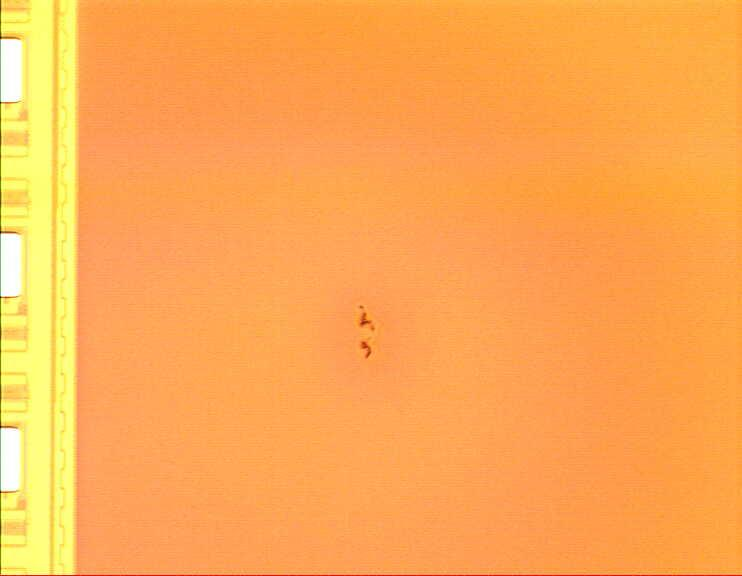PIQ PARTICLE: (353, 288, 389, 368)
